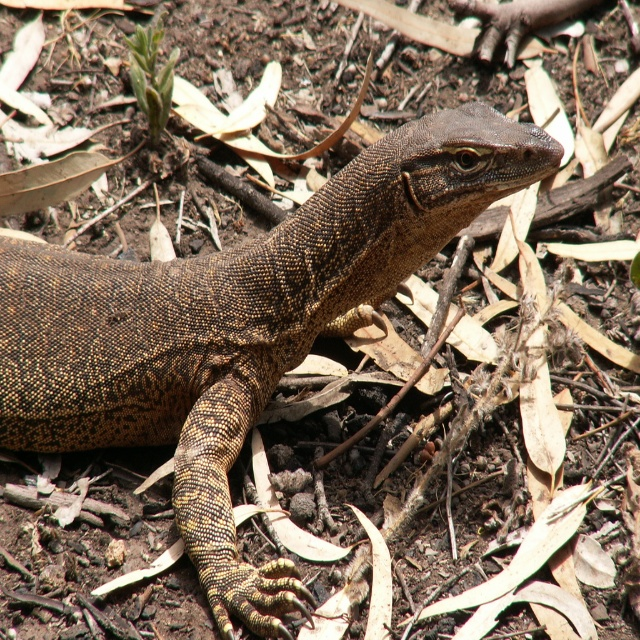Lizard: (0, 101, 565, 640)
